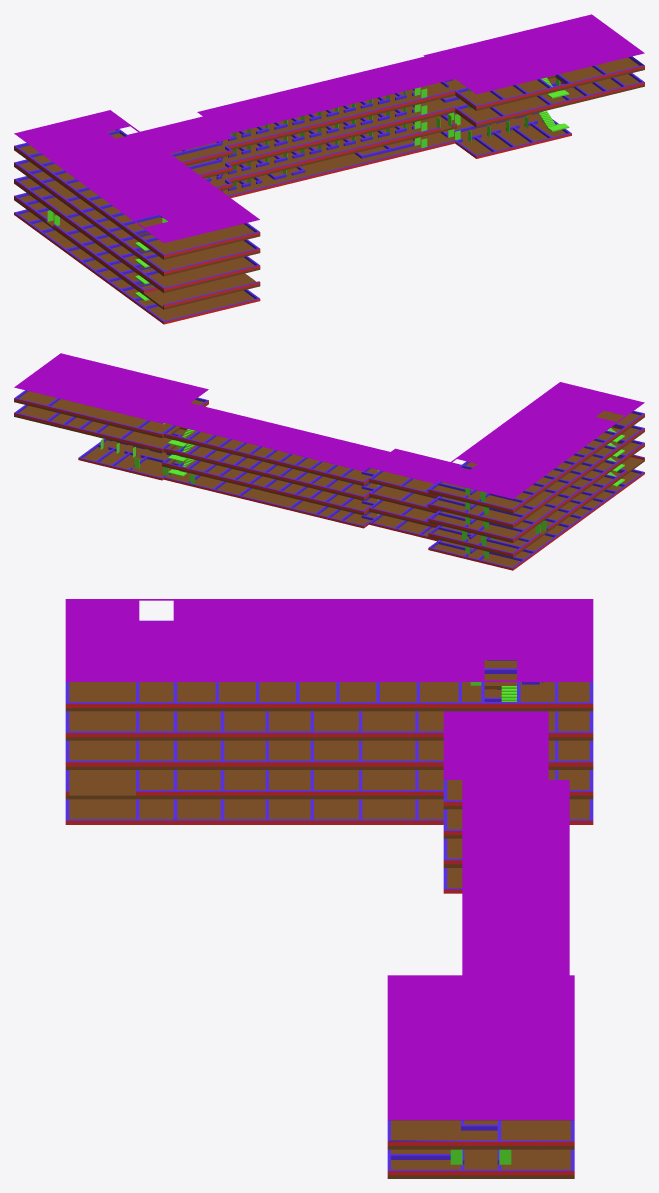
Rendered from tianguanweineibu.obj.
The picture shows the model from 3 angles, top to bottom: view 1: azimuth 30°, elevation 25°; view 2: azimuth 150°, elevation 25°; view 3: azimuth 270°, elevation 25°; orthographic projection. The views are drawn at different scales.
Parts seen in each view (by area): view 1: TGW_dimian_F3, TGW_dimian_F4, TGW_dimian_F2, TGW_dimian_B1, TGW_dimian_F1; view 2: TGW_dimian_F3, TGW_dimian_F4, TGW_dimian_F2, TGW_dimian_B1, TGW_dimian_F1; view 3: TGW_dimian_F3, TGW_dimian_F4, TGW_dimian_F2, TGW_dimian_F1, TGW_dimian_B1.
Part boxes in pixels (bbox=[...]): TGW_dimian_F3: bbox=[14, 14, 644, 276]; TGW_dimian_F4: bbox=[14, 110, 260, 259]; TGW_dimian_F2: bbox=[14, 73, 644, 292]; TGW_dimian_B1: bbox=[14, 111, 571, 324]; TGW_dimian_F1: bbox=[14, 112, 460, 309]; TGW_dimian_F3: bbox=[14, 353, 644, 528]; TGW_dimian_F4: bbox=[428, 382, 644, 513]; TGW_dimian_F2: bbox=[14, 405, 644, 542]; TGW_dimian_B1: bbox=[78, 438, 644, 570]; TGW_dimian_F1: bbox=[162, 443, 644, 557]; TGW_dimian_F3: bbox=[65, 686, 593, 1149]; TGW_dimian_F4: bbox=[65, 599, 593, 711]; TGW_dimian_F2: bbox=[65, 740, 593, 1178]; TGW_dimian_F1: bbox=[65, 770, 593, 867]; TGW_dimian_B1: bbox=[65, 799, 593, 893].
Bounding box in the file's own units: 12231 × 1661 × 5546.
